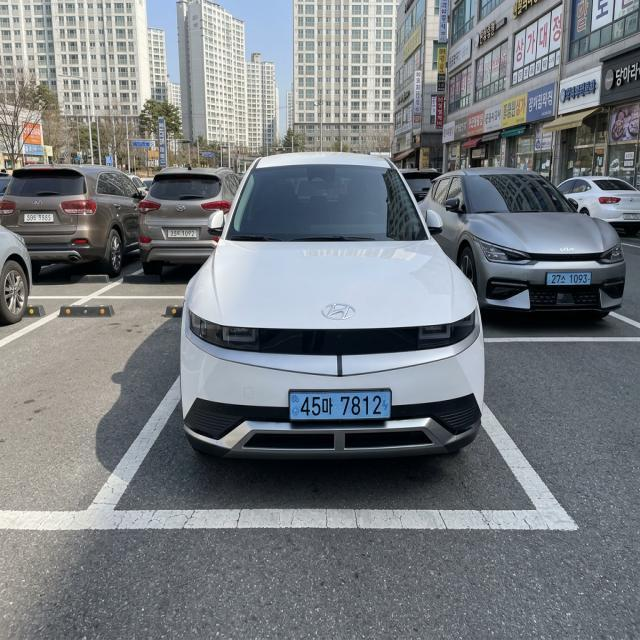car: (271, 375, 408, 438), (541, 270, 601, 294)
carev: (288, 390, 301, 424), (381, 389, 391, 426), (586, 271, 593, 292), (547, 271, 552, 293)
